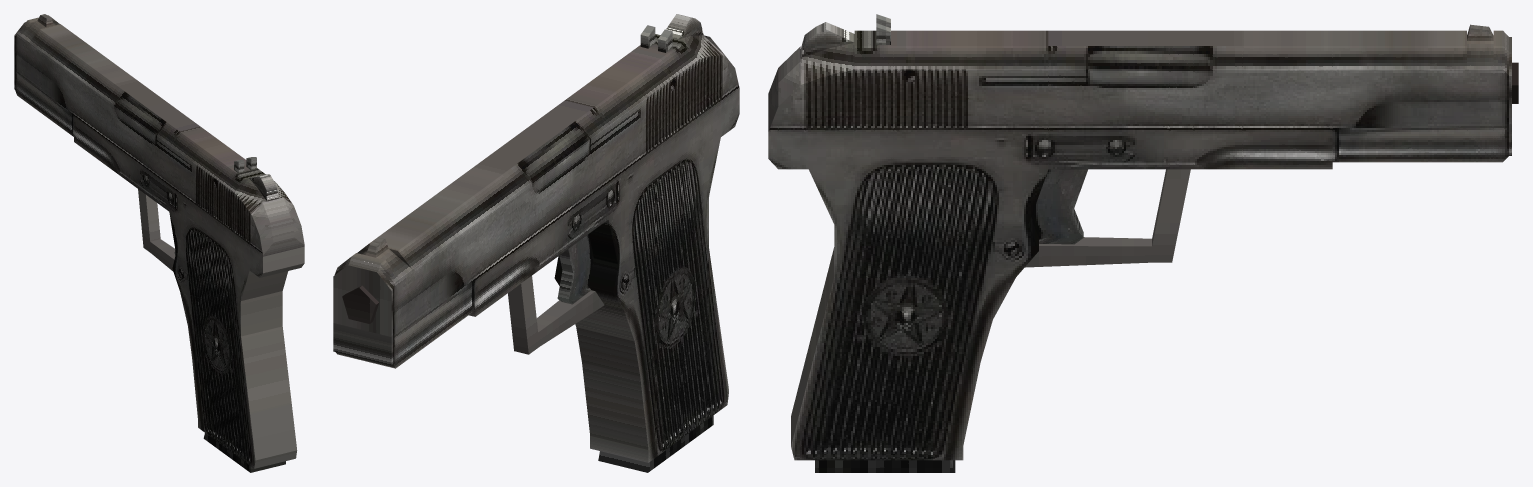
The model's file is tokarev.glb.
3 views of the same model, side by side, from view 1: azimuth 30°, elevation 25°; view 2: azimuth 150°, elevation 25°; view 3: azimuth 270°, elevation 25° (orthographic). The views are drawn at different scales.
Visible parts, largest first — view 1: gun, slide, mag; view 2: gun, slide, mag, barrel; view 3: gun, slide, mag.
Part boxes in pixels (bbox=[...]): gun: bbox=[14, 69, 304, 468]; slide: bbox=[14, 14, 304, 256]; mag: bbox=[203, 433, 285, 472]; gun: bbox=[333, 91, 739, 462]; slide: bbox=[333, 14, 739, 337]; mag: bbox=[598, 415, 713, 472]; barrel: bbox=[342, 285, 379, 323]; gun: bbox=[768, 125, 1511, 460]; slide: bbox=[768, 14, 1511, 135]; mag: bbox=[815, 460, 955, 472].
Bounding box in the file's own units: 0.4654 × 3.14 × 4.85.
Materials: 1 (1 with a texture image).
